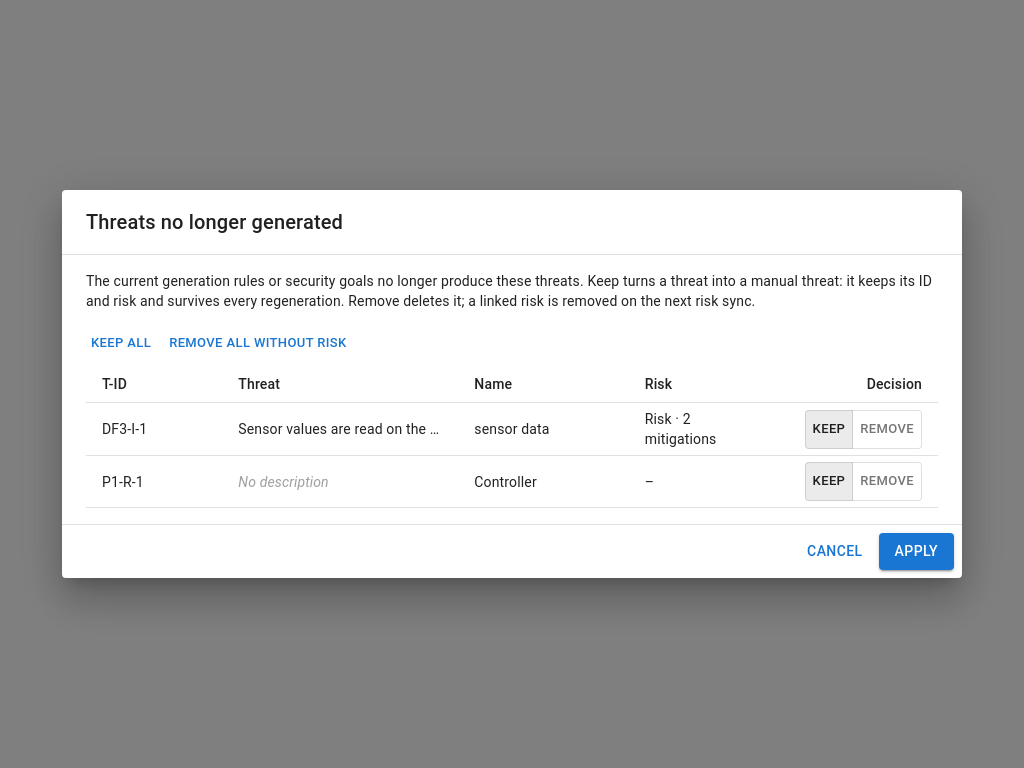
Test: ThreatDriftDialog › the tooltip of the threat text holds the full threat and attack text
Hover over the text "Sensor values are read on the bus" at x=340, y=429, box [238,419,442,439]
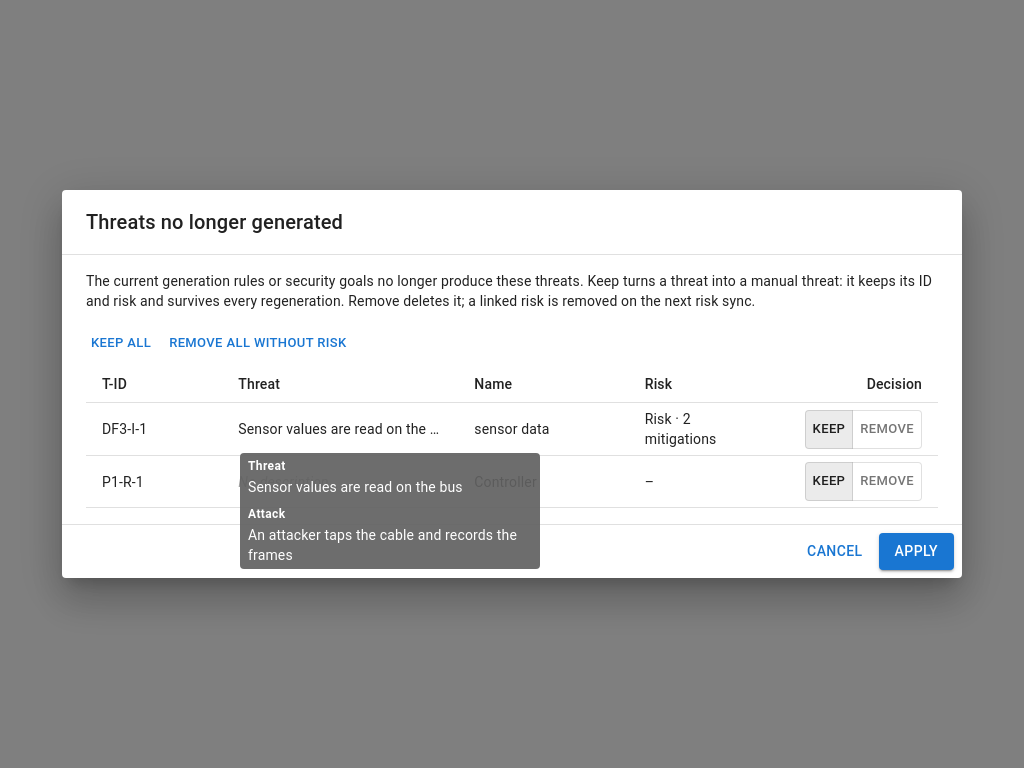
Check: the tooltip shows "Sensor values are read on the bus", box [248,479,463,495]
Check: the tooltip shows "Attack", box [248,507,286,521]
Check: the tooltip shows "An attacker taps the cable and records the frames", box [248,527,517,563]
